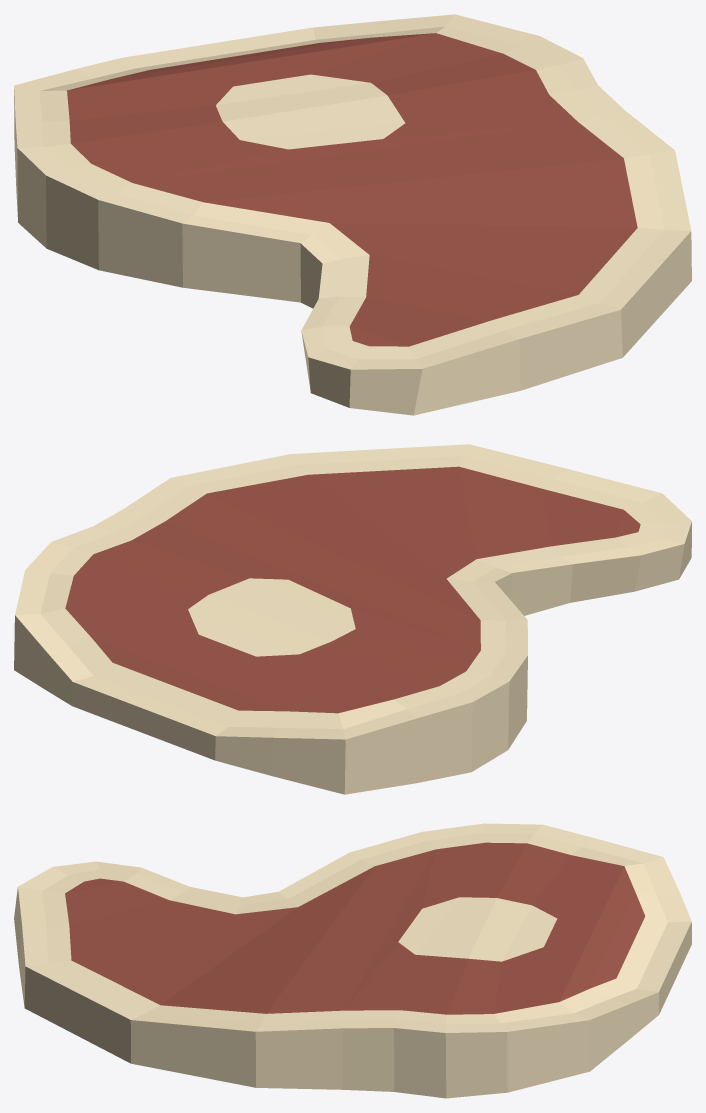
File: meat.fbx
The picture shows the model from 3 angles, top to bottom: view 1: azimuth 30°, elevation 25°; view 2: azimuth 150°, elevation 25°; view 3: azimuth 270°, elevation 25°; orthographic projection. The views are drawn at different scales.
Parts seen in each view (by area): view 1: Cube.013; view 2: Cube.013; view 3: Cube.013.
Boxes of the visible parts, x1,y1,x2,y2 form: Cube.013: (14, 14, 691, 415); Cube.013: (14, 444, 691, 794); Cube.013: (14, 823, 691, 1098).
Size of the model in its own units: 183 by 21.13 by 139.
